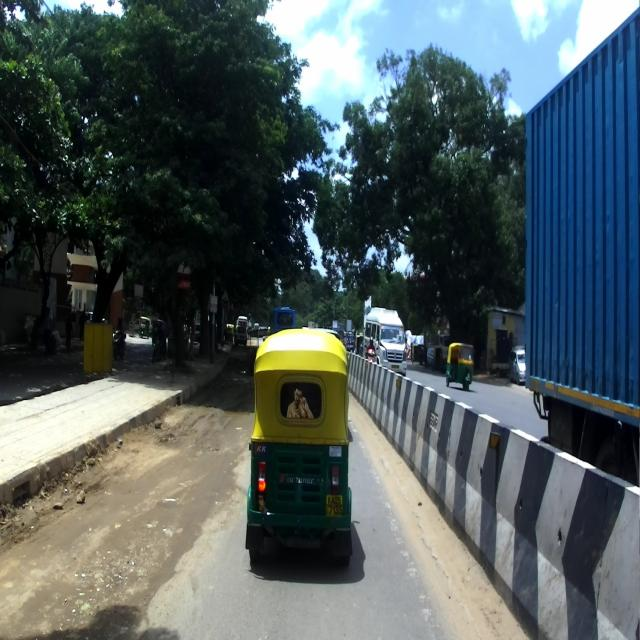autorickshaw: (245, 327, 352, 570)
truck: (524, 6, 639, 488)
